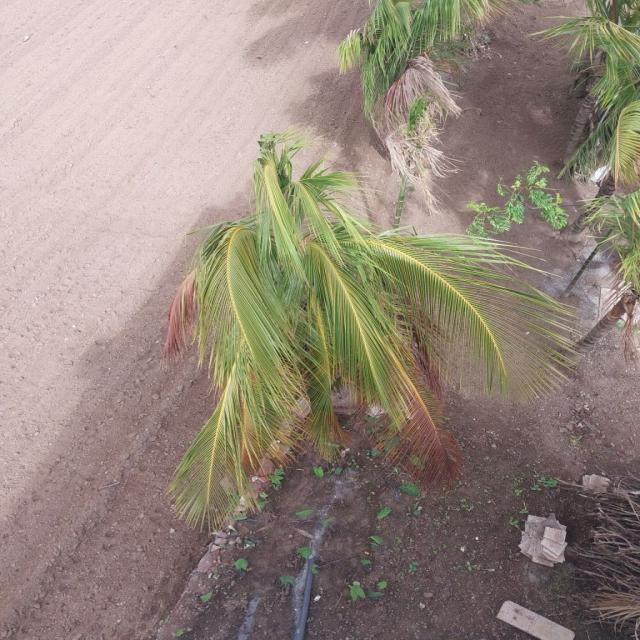bud root dropping: (167, 130, 575, 527)
